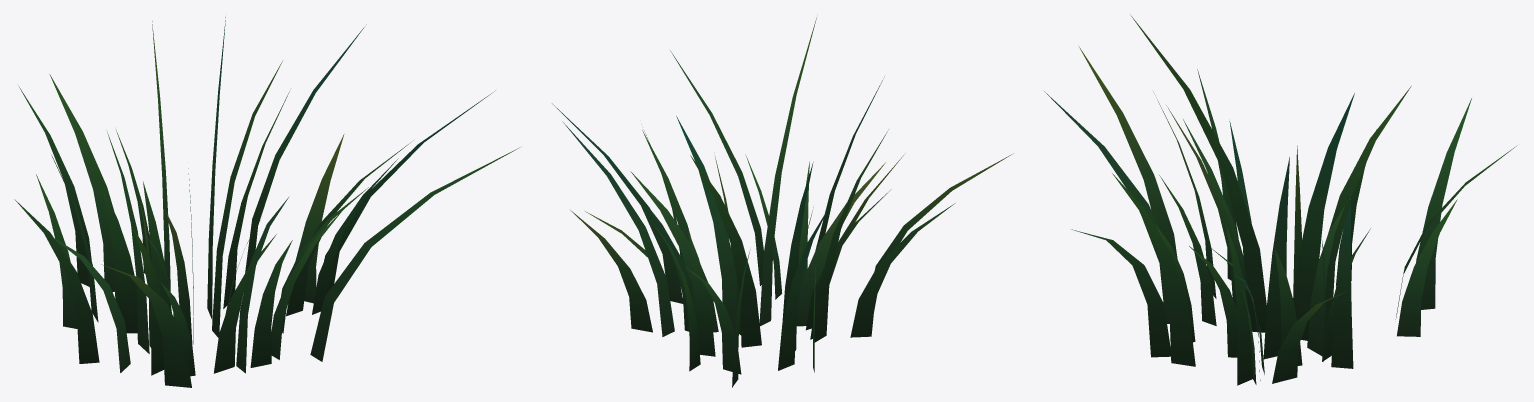
Rendered from cimen_orta.glb.
The picture shows the model from 3 angles, left to right: view 1: azimuth 30°, elevation 25°; view 2: azimuth 150°, elevation 25°; view 3: azimuth 270°, elevation 25°; orthographic projection. The views are drawn at different scales.
Parts seen in each view (by area): view 1: cimen_orta_LOD0; view 2: cimen_orta_LOD0; view 3: cimen_orta_LOD0.
Part boxes in pixels (x1,y1,x2,y2): cimen_orta_LOD0: [14, 17, 520, 387]; cimen_orta_LOD0: [552, 17, 1013, 387]; cimen_orta_LOD0: [1044, 14, 1517, 385].
Size of what is drawn, in the model's own units: 0.8249 by 0.5338 by 0.7207.
